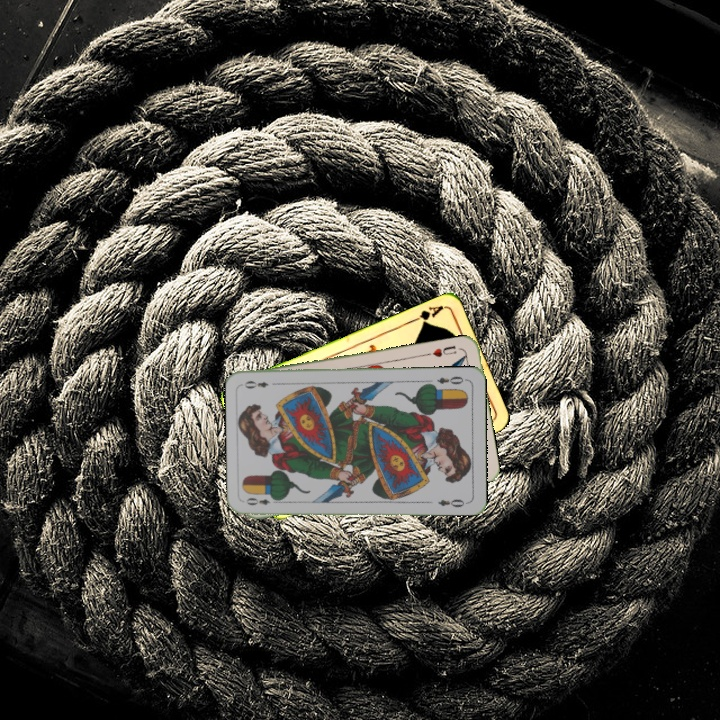EO: (242, 493, 282, 508), (433, 372, 469, 387)
GA: (407, 301, 446, 328)
HU: (423, 342, 459, 360)
